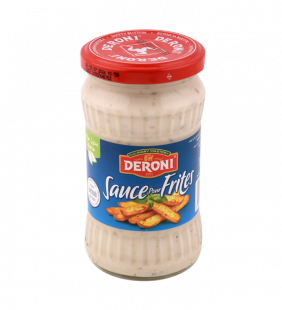Promotion: (74, 23, 211, 287)
